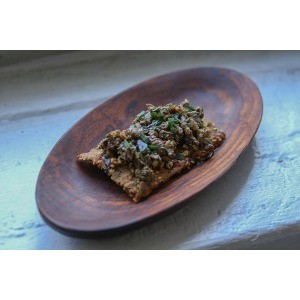liver_brain food: (93, 107, 218, 184)
